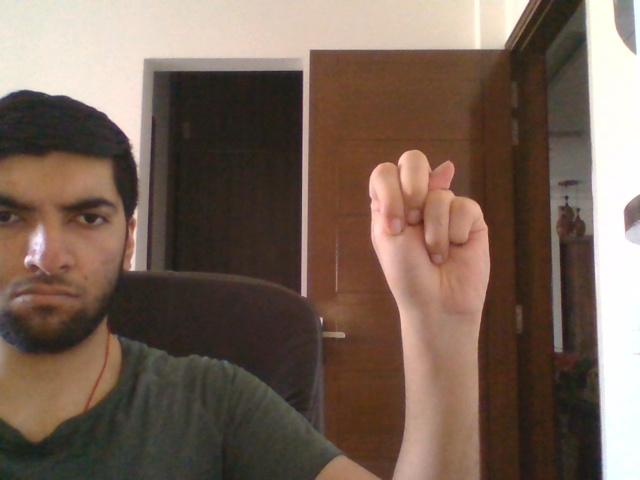LetterN: (368, 149, 491, 316)
